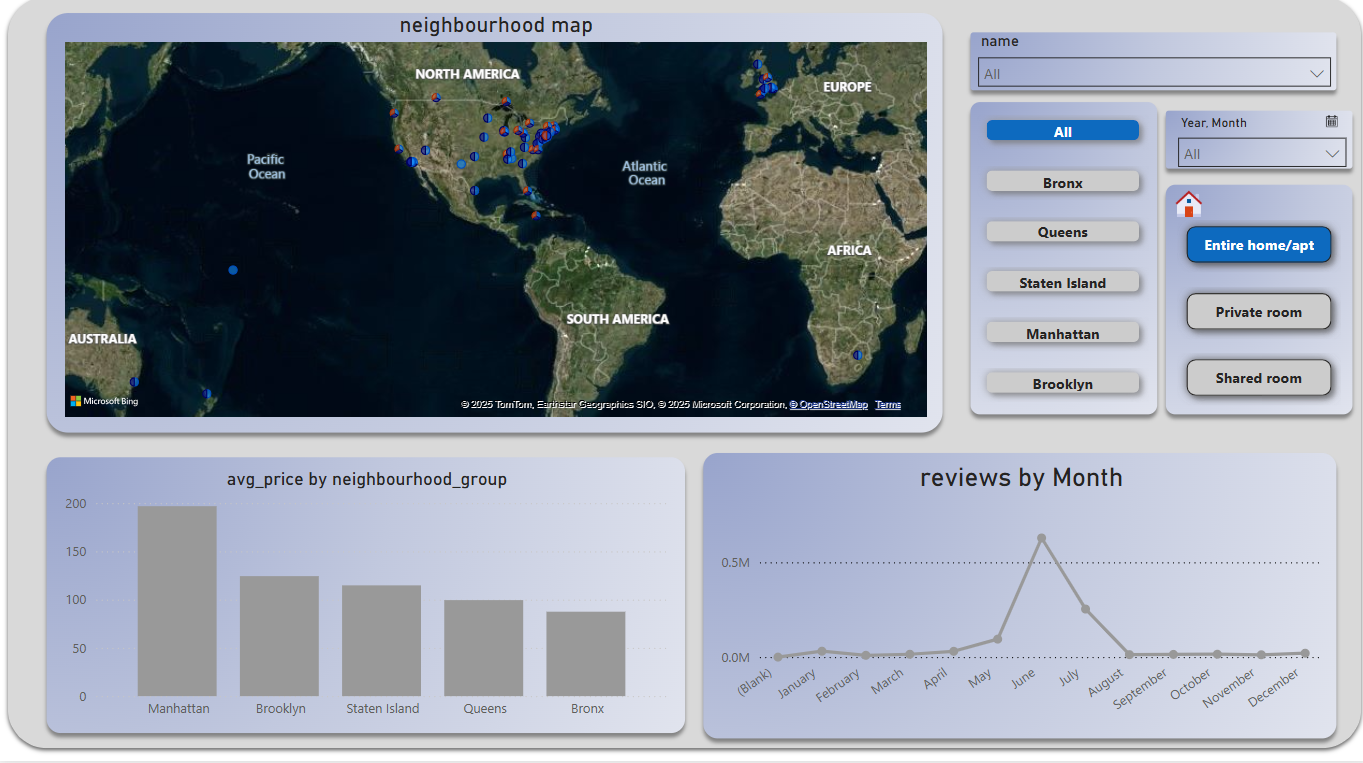

This screenshot's page, from the dashboard's own definition file:
{"tool":"powerbi","page":{"name":"Page 1","canvas":[1280,720],"ordinal":0},"visuals":[{"type":"map","title":"neighbourhood map","fields":{"Category":["ab_nyc_cleaned.neighbourhood"],"Series":["ab_nyc_cleaned.room_type"]},"box":[0,0,840,420],"z":0},{"type":"slicer","fields":{"Values":["ab_nyc_cleaned.neighbourhood_group"]},"box":[841.7,53.3,218.3,203.3],"z":1000},{"type":"clusteredColumnChart","fields":{"Y":["ab_nyc_cleaned.avg_price"],"Category":["ab_nyc_cleaned.neighbourhood_group"]},"box":[0,420,395.7,300],"z":2000},{"type":"lineChart","title":"reviews by Month","fields":{"Category":["ab_nyc_cleaned.new_last_review.Variation.Date Hierarchy.Month"],"Y":["Sum(ab_nyc_cleaned.number_of_reviews)"]},"box":[395.7,420,884.3,300],"z":3000},{"type":"slicer","fields":{"Values":["ab_nyc_cleaned.new_last_review.Variation.Date Hierarchy.Year"]},"box":[1056.7,51.7,223.3,368.3],"z":4000},{"type":"slicer","fields":{"Values":["ab_nyc_cleaned.room_type"]},"box":[840,255,216.7,165],"z":5000},{"type":"textbox","box":[841.7,0,438.3,53.3],"z":5001}]}

Visuals, with their boxes in screenshot pixels (x1, y1, x2, y2), scaled from the page's 1280x720 canvas onto the 1363x763 screenshot:
"neighbourhood map" map: x1=0 y1=0 x2=894 y2=445
slicer - ab_nyc_cleaned.neighbourhood_group: x1=896 y1=56 x2=1129 y2=272
clusteredColumnChart - ab_nyc_cleaned.avg_price x ab_nyc_cleaned.neighbourhood_group: x1=0 y1=445 x2=421 y2=762
"reviews by Month" lineChart: x1=421 y1=445 x2=1362 y2=762
slicer - ab_nyc_cleaned.new_last_review.Variation.Date Hierarchy.Year: x1=1125 y1=55 x2=1362 y2=445
slicer - ab_nyc_cleaned.room_type: x1=894 y1=270 x2=1125 y2=445
textbox: x1=896 y1=0 x2=1362 y2=56
